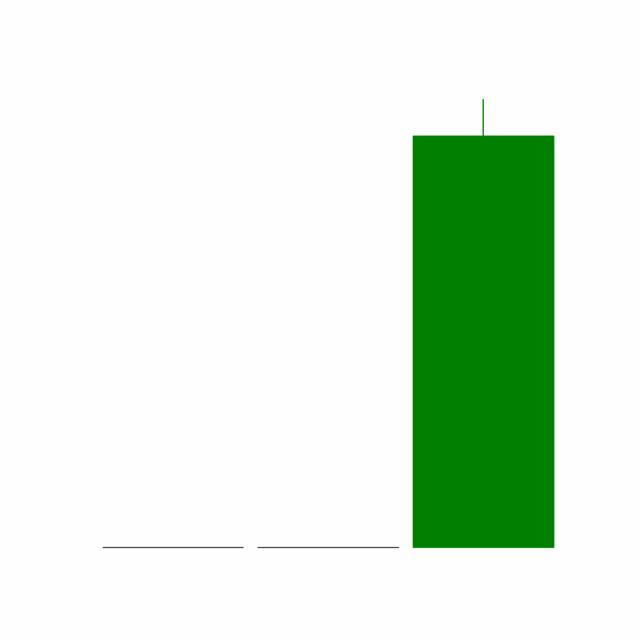Spinning Top: (250, 546, 405, 548)
